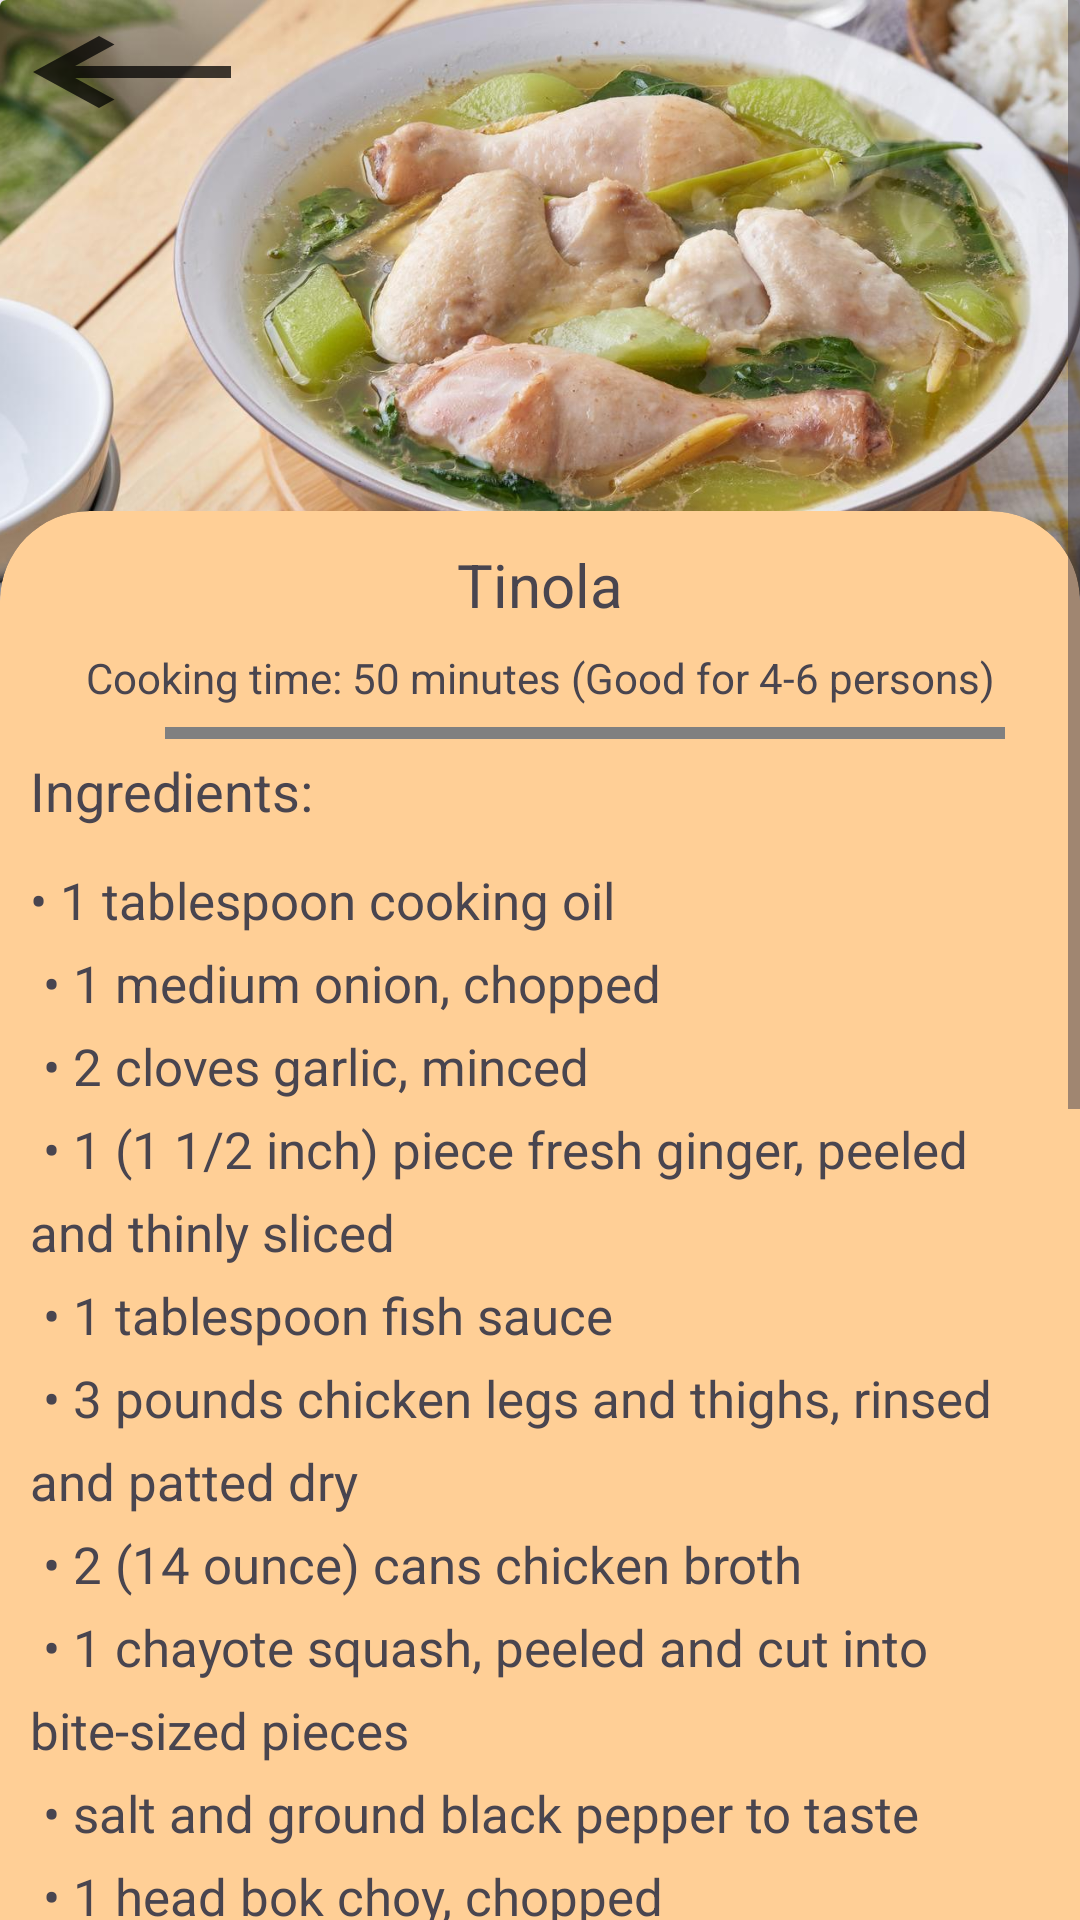

Named icons in this screenshot (1080x1920) and their centers, [x,y]:
keyboard backspace: [132,72]
